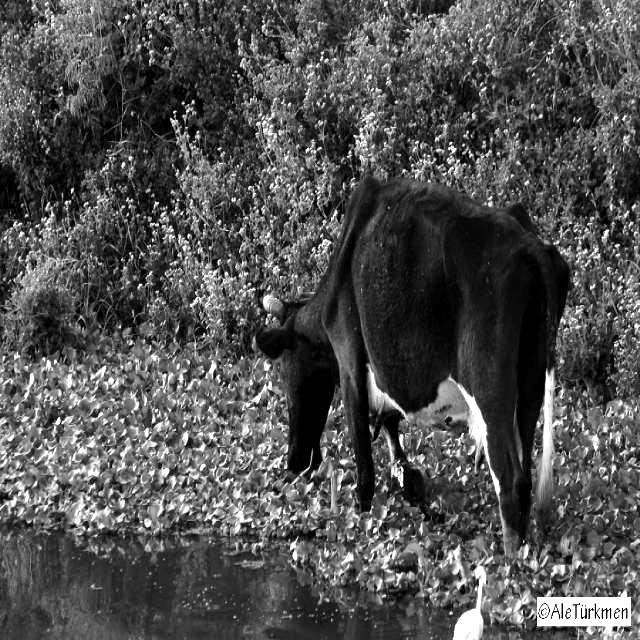COW: (256, 179, 569, 553)
